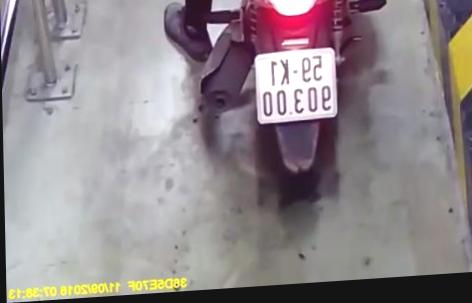License_Plate: (245, 41, 342, 135)
